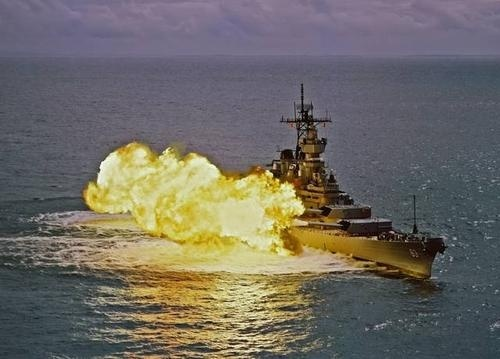fire: (81, 141, 308, 260)
